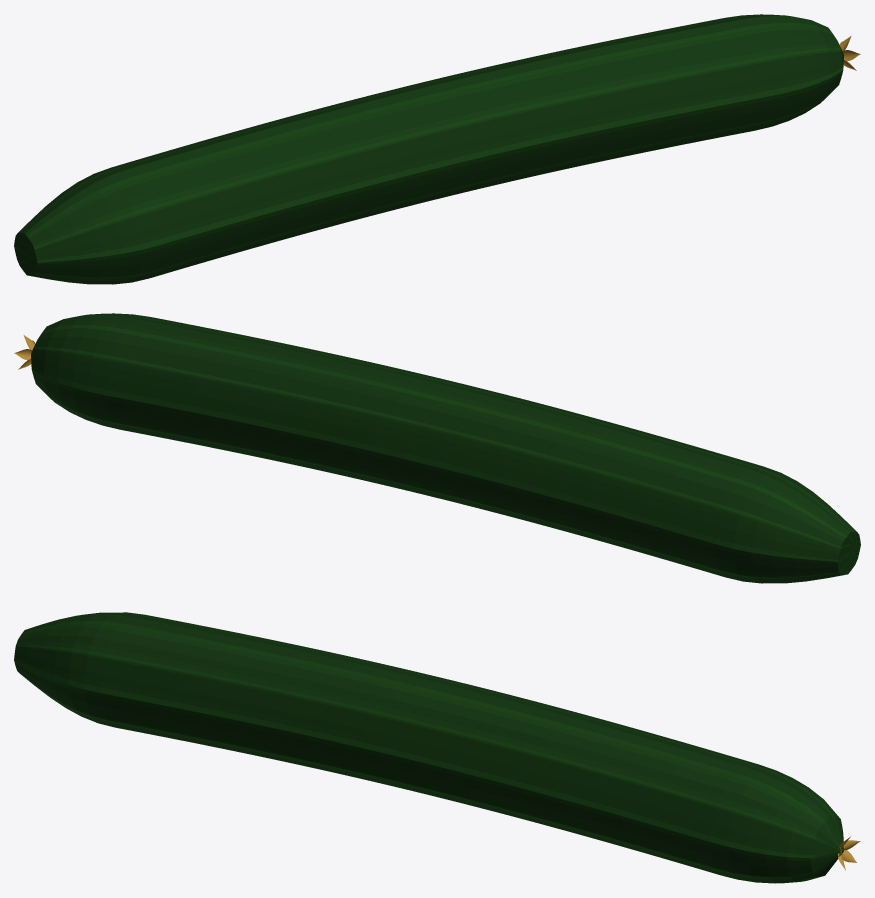
The model's file is fruit_00.obj.
The picture shows the model from 3 angles, top to bottom: view 1: azimuth 30°, elevation 25°; view 2: azimuth 150°, elevation 25°; view 3: azimuth 330°, elevation 25°; orthographic projection.
Bounding box in the file's own units: 1.01 × 0.1379 × 0.1271.
1 material, 1 textured.
